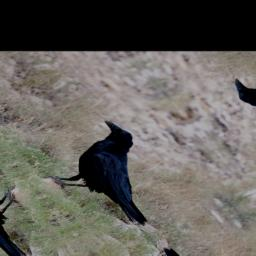Crow: (18, 116, 198, 240)
